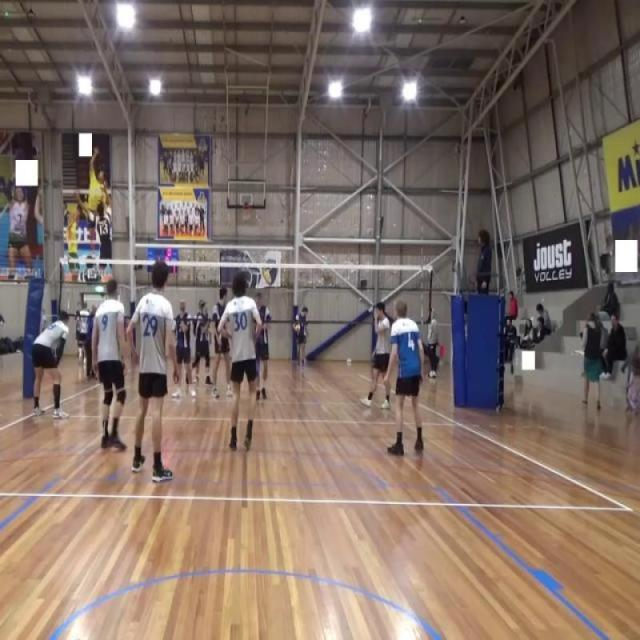volleyball: (294, 323, 302, 334)
